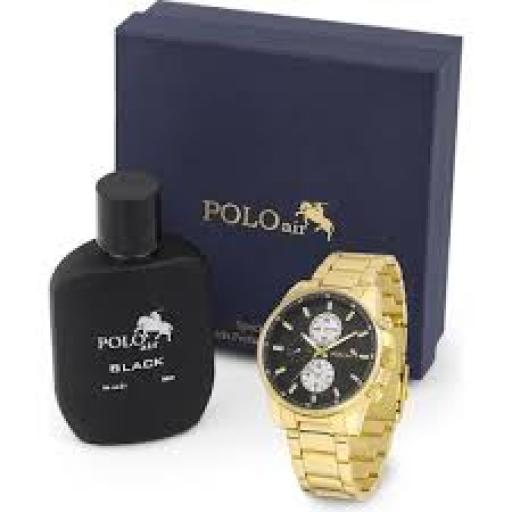KolSaati: (251, 230, 421, 512)
